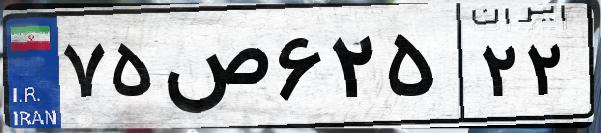2: (330, 28, 385, 110), (475, 38, 525, 113), (525, 38, 570, 115)
5: (385, 28, 445, 110), (110, 28, 158, 98)
6: (270, 28, 330, 110)
7: (57, 26, 110, 100)
ص: (158, 20, 270, 120)
